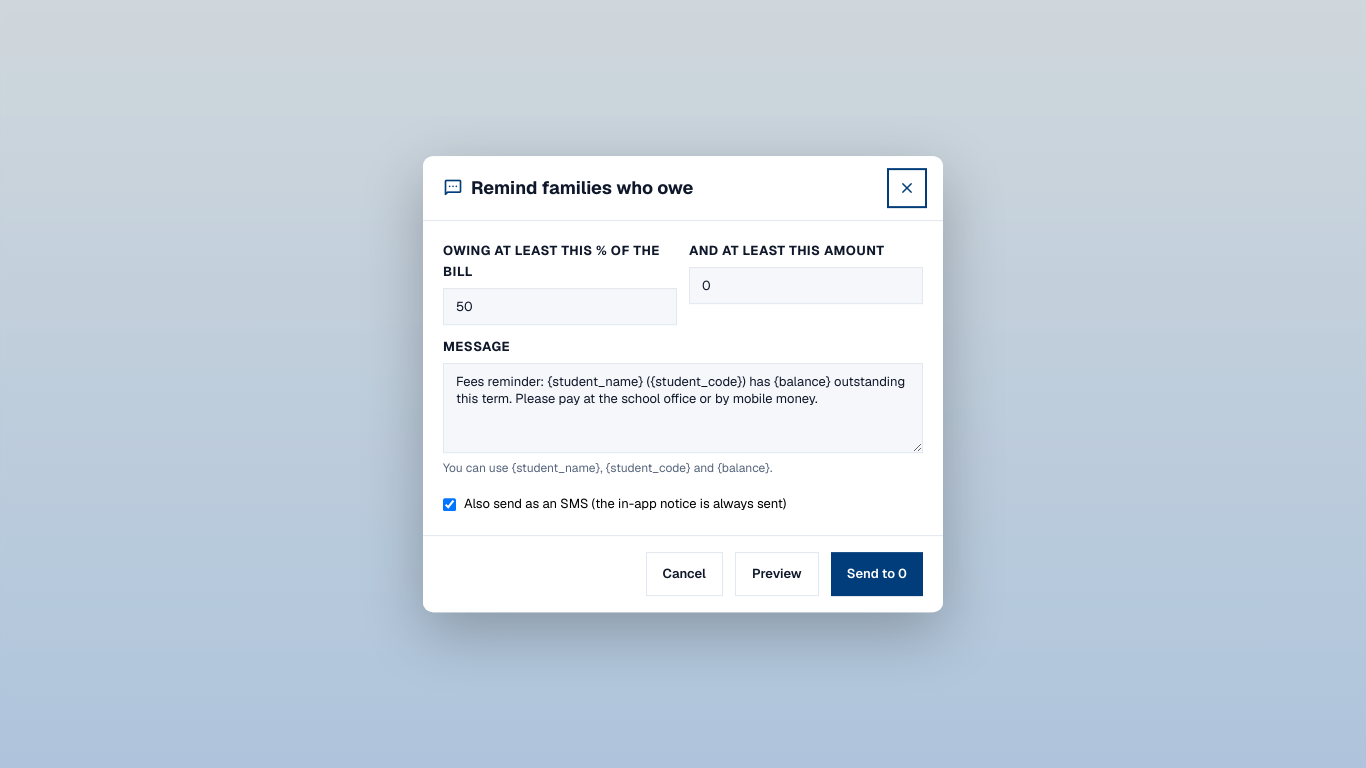
RemindersModal › clears the preview when a threshold changes, so a stale count is never sent
This screenshot has width=1366, height=768.
Click the button "Preview" at (777, 574), box x1=735 y1=552 x2=819 y2=596
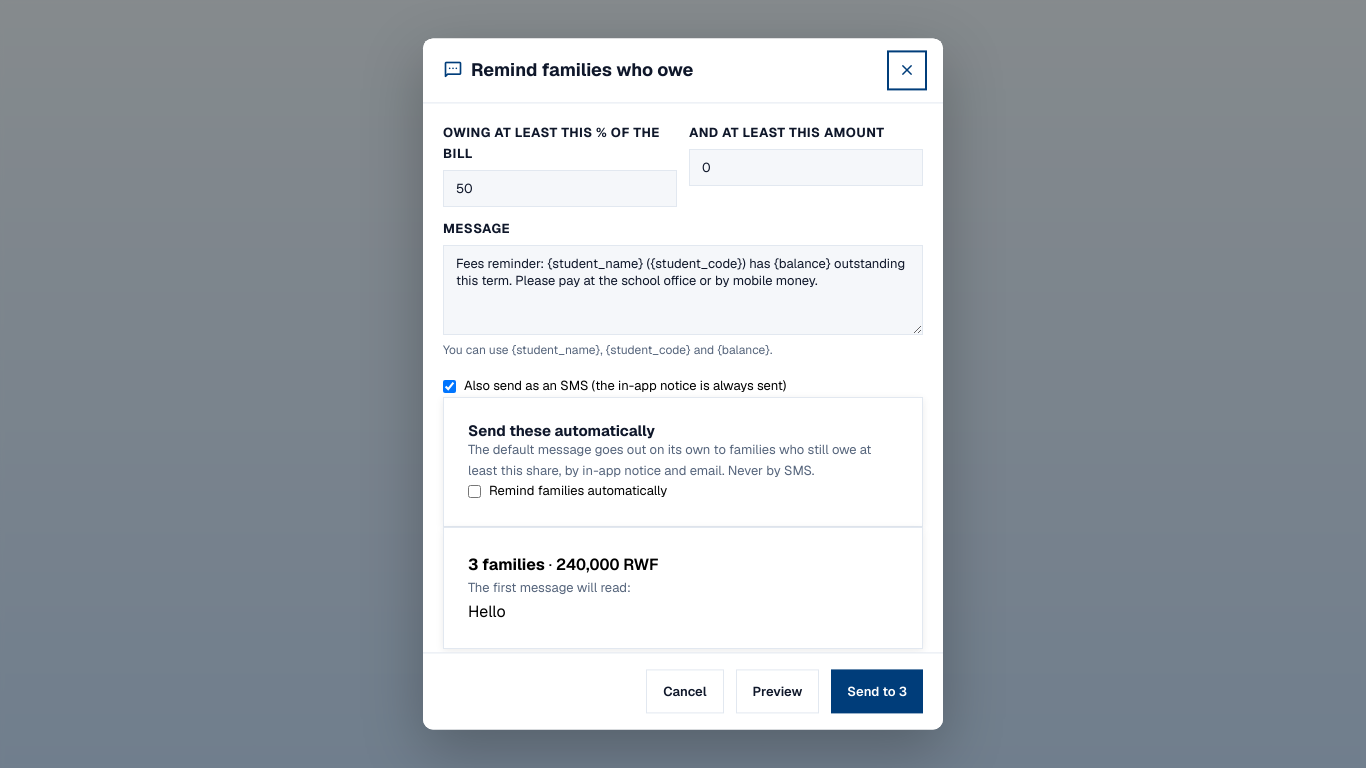
Expected: the text "Hello" is shown, x1=468 y1=601 x2=506 y2=622
Replace the text in the number field labelled "Owing at least this % of the bill" with "80" at (560, 189), box x1=443 y1=171 x2=677 y2=207
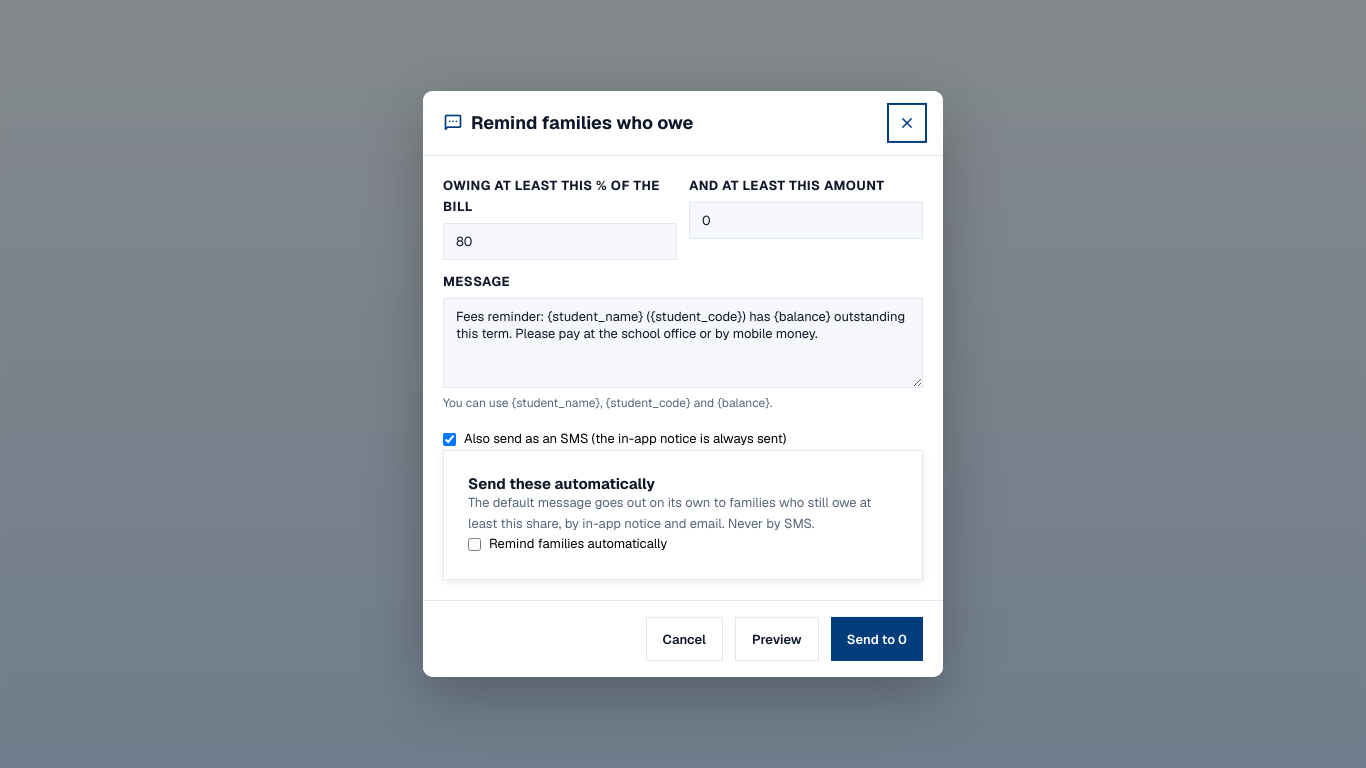
Expected: the text "Hello" is gone
Expected: the button "Send to 0" is disabled, x1=831 y1=617 x2=923 y2=661
